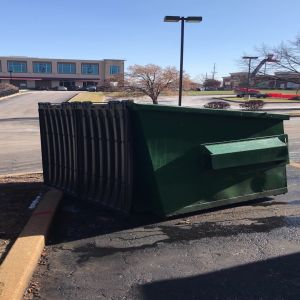Dumpster: (36, 99, 292, 221)
